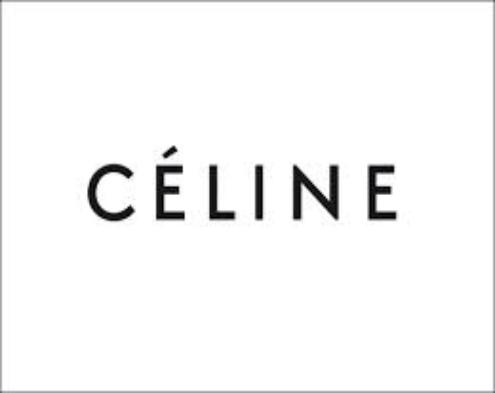CELINE: (81, 133, 407, 247)
